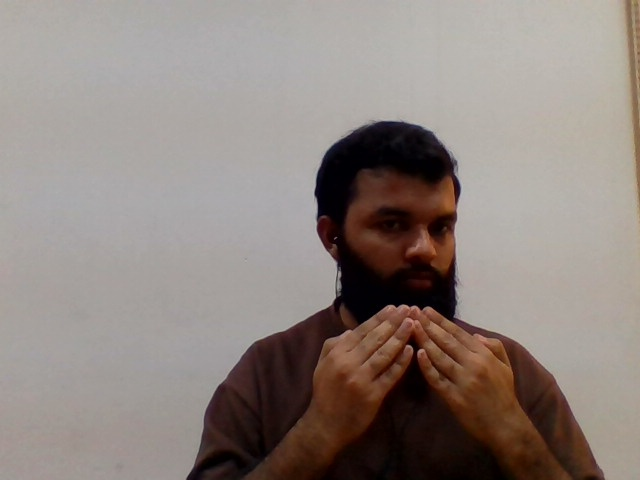Thank You: (309, 231, 530, 433)
